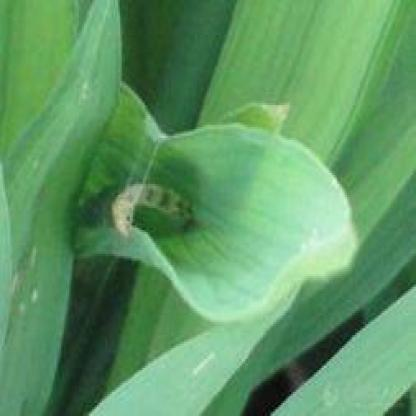leaf-folder: (104, 162, 218, 252)
